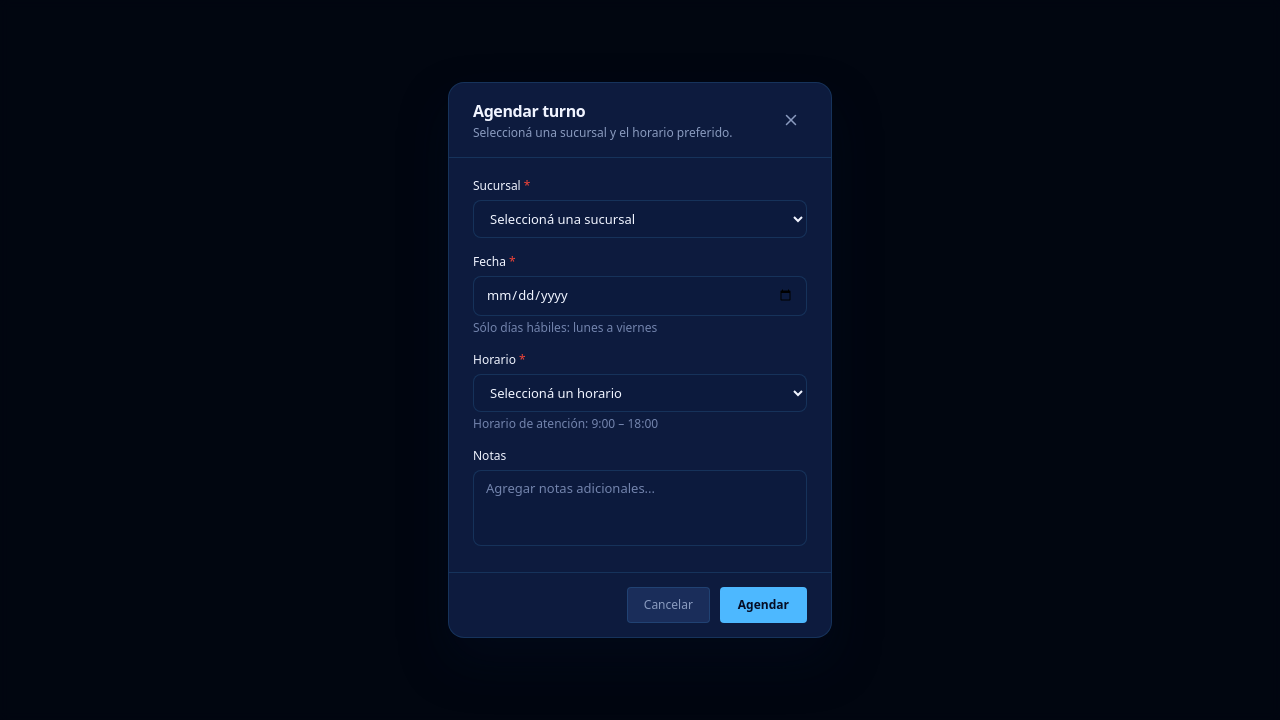
Test case: AppointmentForm › Slice 2: Form validation › should show validation errors for required fields
// Try to submit without filling fields
Click the button "Agendar" at (763, 605), box [720,587,807,623]
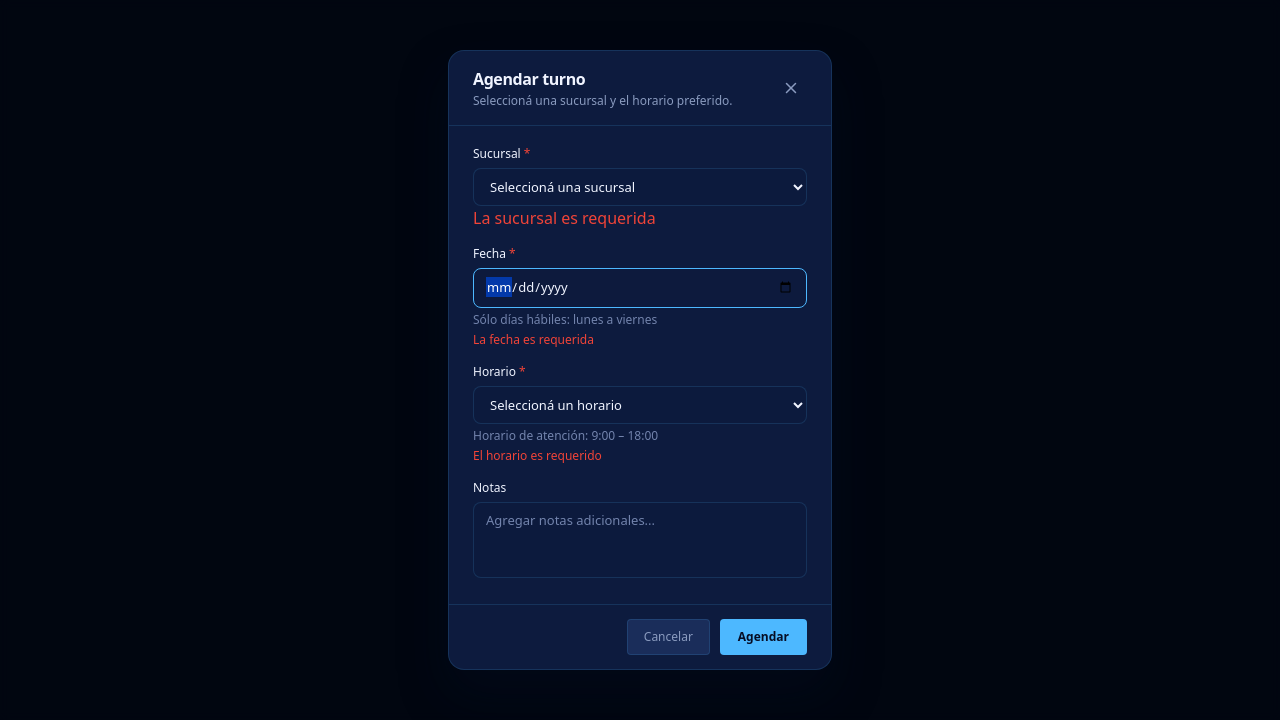
Expected: the text "La sucursal es requerida" is shown, [473,207,656,229]
Expected: the text "La fecha es requerida" is shown, [473,330,594,348]
Expected: the text "El horario es requerido" is shown, [473,446,602,464]
